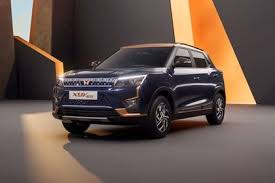XUV 400: (50, 41, 225, 139)
